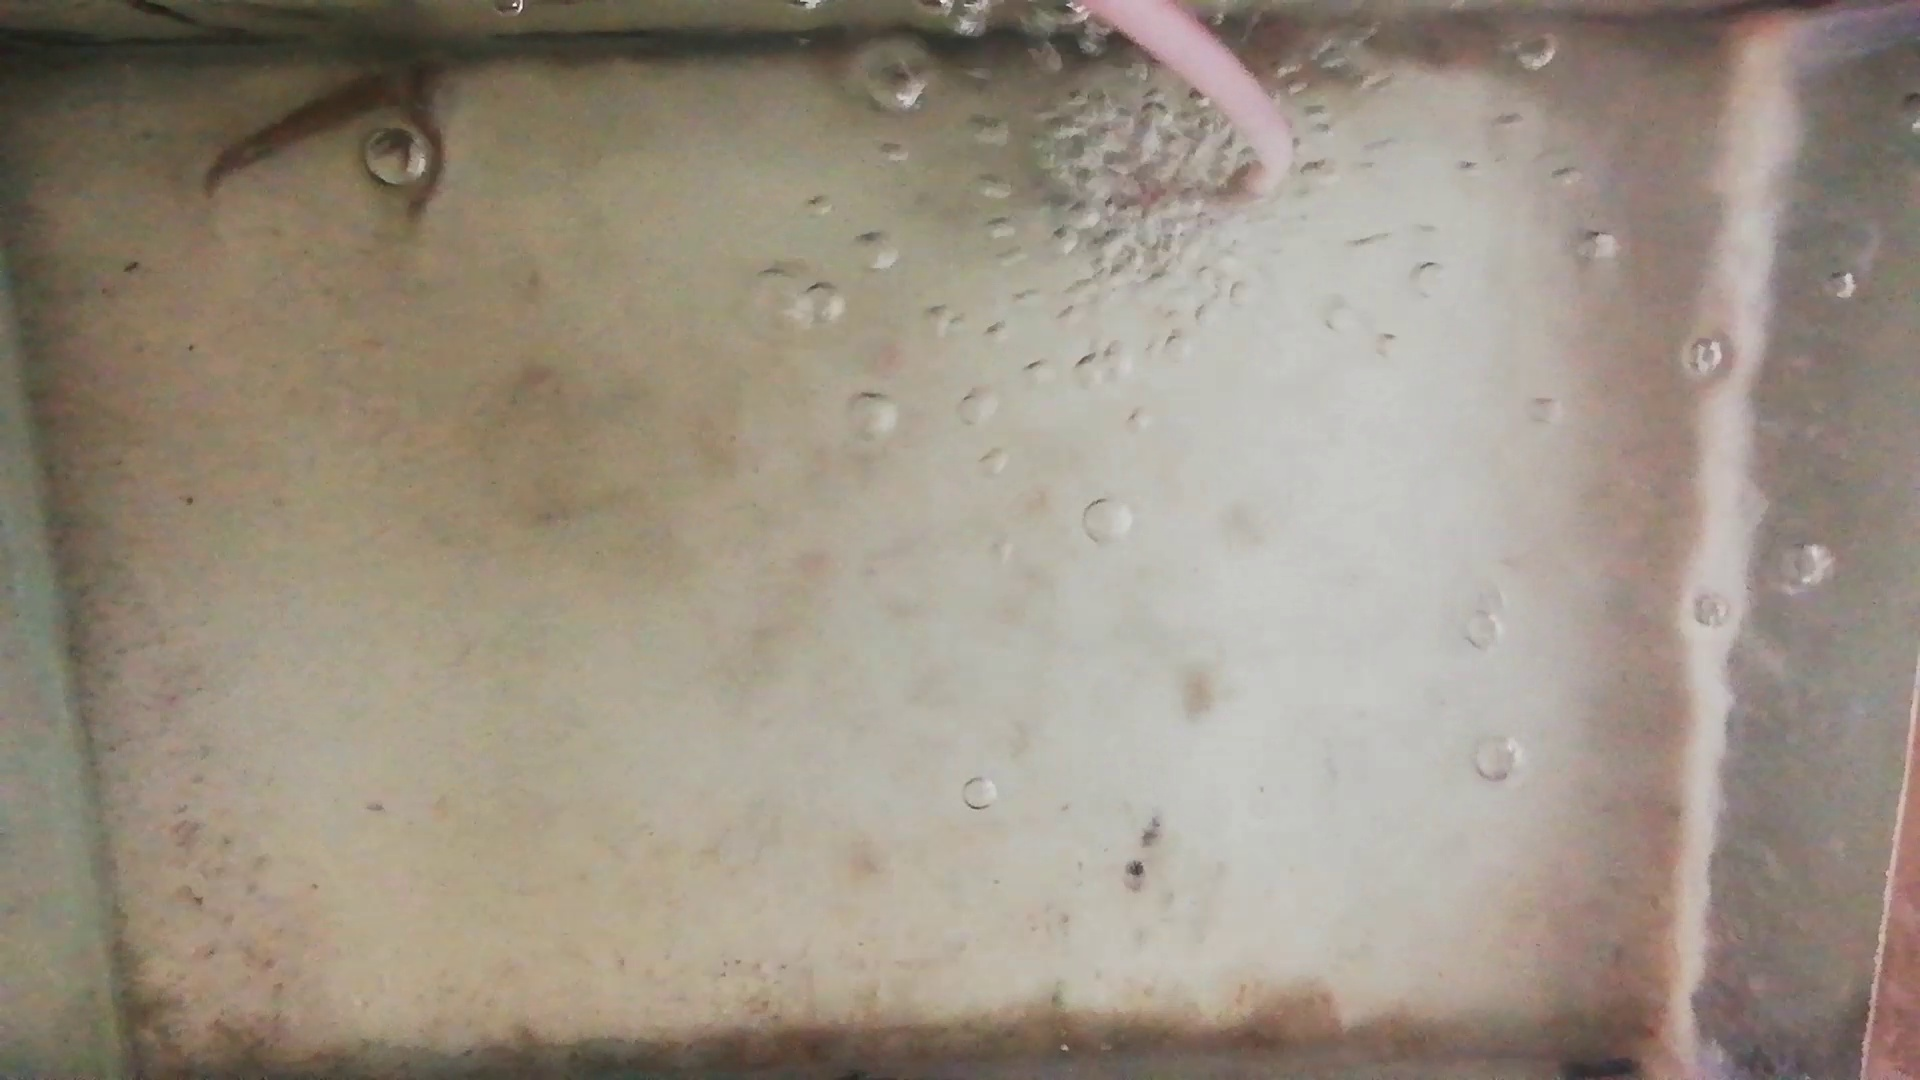fish: (204, 73, 393, 206), (398, 54, 444, 222)
